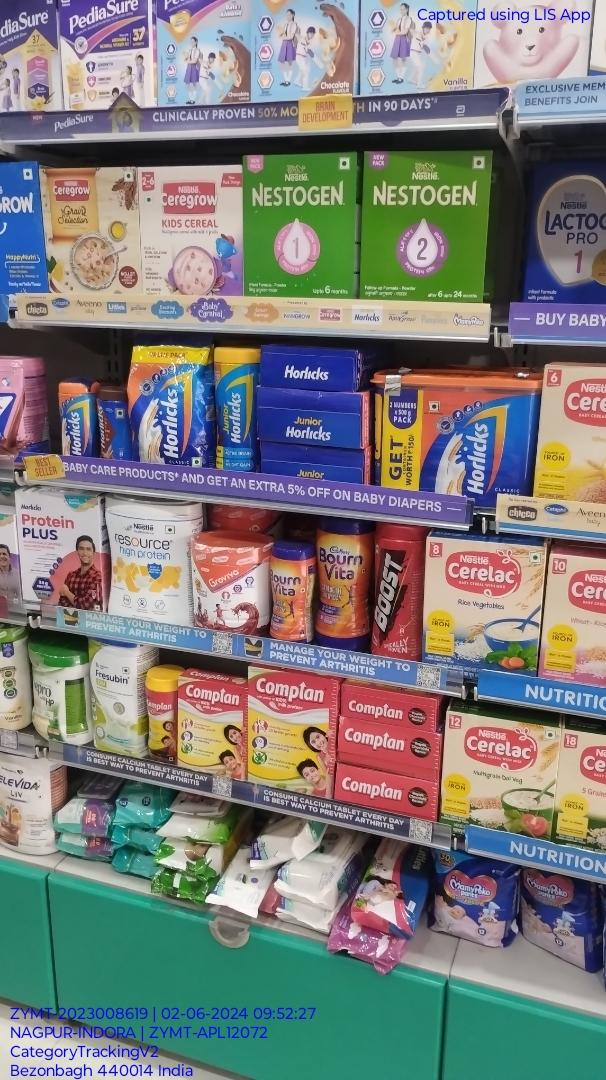BOURN_VITA_200_G_JAR: (268, 547, 312, 645)
BOURN_VITA_500_G_JAR: (315, 515, 370, 652)
COMPLAN_CHOCOLATE_200_GMS_JAR: (145, 674, 175, 763)
COMPLAN_KESAR_BADAM_200_GMS_PACK: (177, 677, 246, 777)
COMPLAN_PISTA_BADAM_500_GMS_PACK: (249, 667, 334, 798)
HORLICK_CLASSIC_MALT_750_G_POUCH: (130, 345, 210, 465)
HORLICK_MALT_1_KG_CONTAINER: (371, 373, 531, 491)
